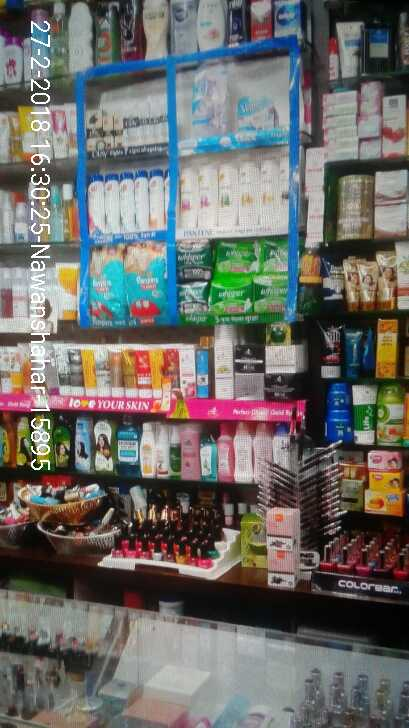venus: (193, 69, 227, 132), (238, 95, 277, 130)
